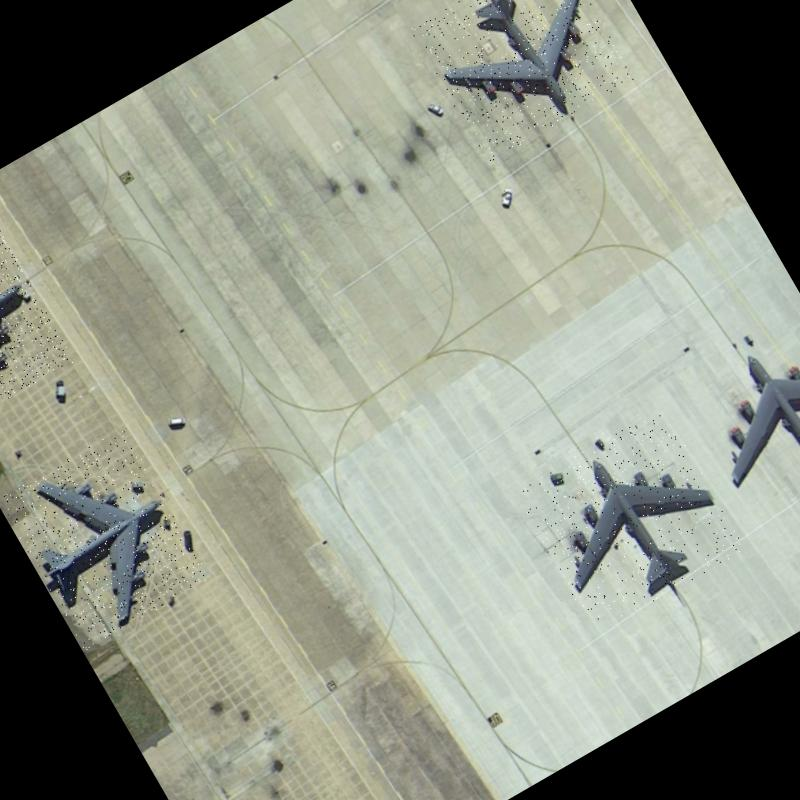A8: (513, 406, 746, 636), (0, 426, 212, 651), (410, 0, 635, 163), (671, 312, 800, 528), (0, 212, 76, 430)
